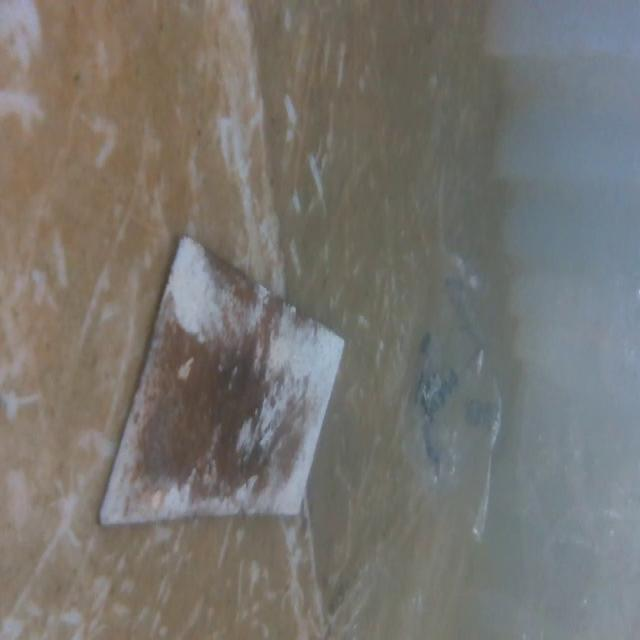metal: (107, 232, 347, 519)
plastic bags: (387, 258, 519, 530)
